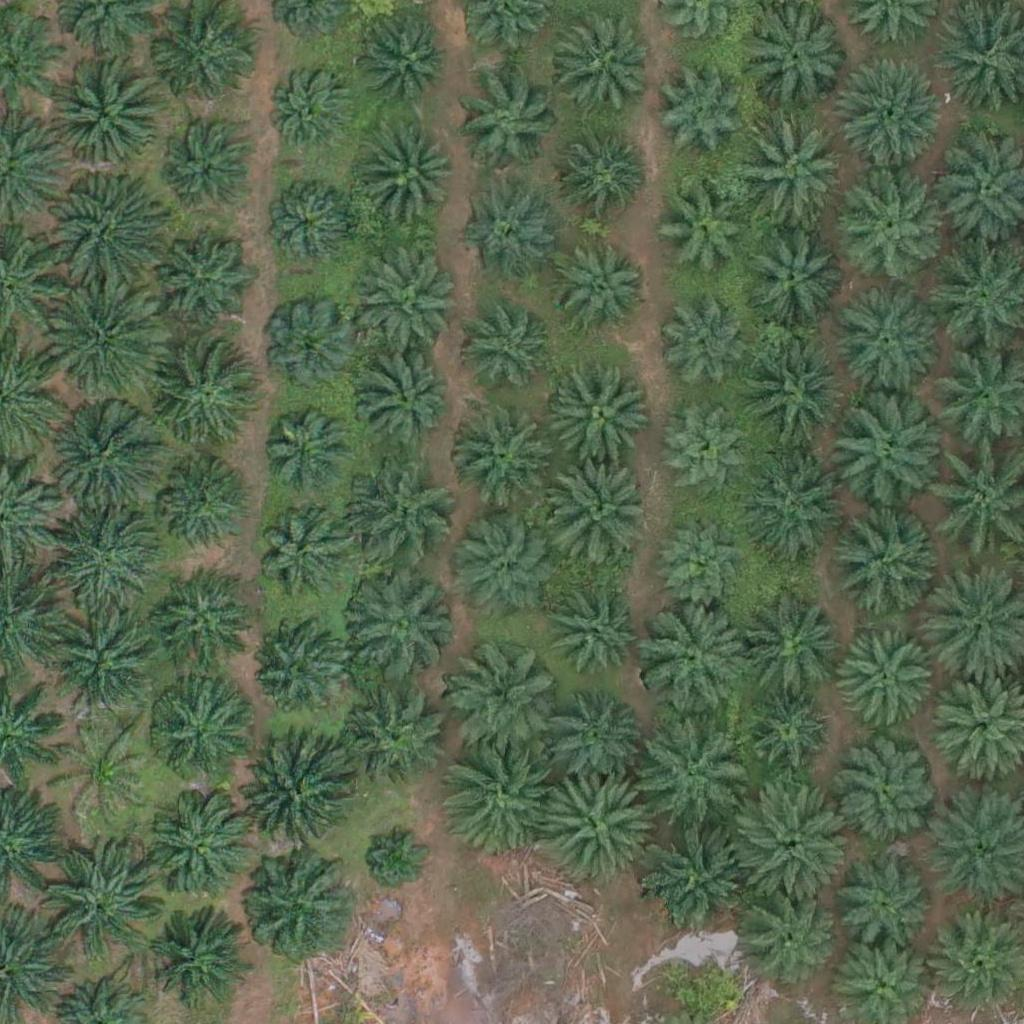Kelapa_Sawit: (823, 400, 936, 513), (631, 705, 744, 818), (644, 822, 757, 935), (538, 769, 651, 882), (443, 510, 556, 623), (443, 629, 556, 742), (435, 743, 548, 856), (340, 570, 453, 683), (239, 739, 352, 852), (834, 59, 947, 172), (740, 121, 853, 234), (52, 283, 165, 396), (52, 172, 165, 285), (51, 54, 164, 167), (634, 603, 746, 717), (444, 403, 556, 517), (147, 789, 259, 903), (48, 500, 160, 614), (49, 613, 161, 727), (738, 335, 850, 449), (353, 244, 465, 358), (56, 397, 168, 511), (821, 505, 933, 618), (739, 453, 851, 566), (736, 593, 848, 706), (736, 781, 848, 894), (547, 456, 659, 569), (347, 453, 459, 566), (241, 855, 353, 968), (45, 844, 157, 957), (833, 288, 945, 401), (542, 357, 654, 470), (150, 348, 262, 461), (835, 631, 935, 732), (835, 743, 935, 844), (837, 852, 937, 953), (732, 891, 832, 992), (545, 688, 645, 789), (549, 575, 649, 676), (349, 689, 449, 790), (246, 621, 346, 722), (55, 717, 155, 818), (841, 183, 941, 284), (737, 227, 837, 328), (748, 10, 848, 111), (547, 235, 647, 336), (459, 304, 559, 405), (259, 296, 359, 397), (151, 236, 251, 337), (148, 908, 248, 1008), (152, 579, 252, 679), (145, 680, 245, 780), (548, 13, 648, 113), (457, 70, 557, 170), (457, 194, 557, 294), (362, 130, 462, 230), (355, 351, 455, 451), (260, 175, 360, 275), (740, 689, 828, 777), (657, 519, 745, 607), (257, 508, 345, 596), (154, 462, 242, 550), (660, 184, 748, 272), (665, 304, 753, 392), (553, 129, 641, 217), (361, 13, 449, 101), (260, 405, 348, 493), (267, 69, 355, 157), (658, 74, 745, 162), (660, 409, 747, 497), (159, 120, 246, 208), (359, 818, 434, 893)
